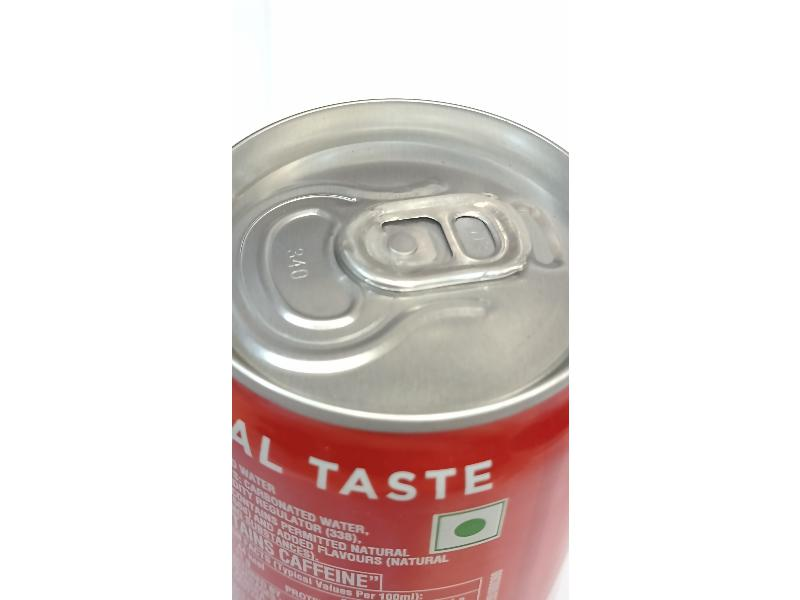can: (220, 92, 571, 600)
